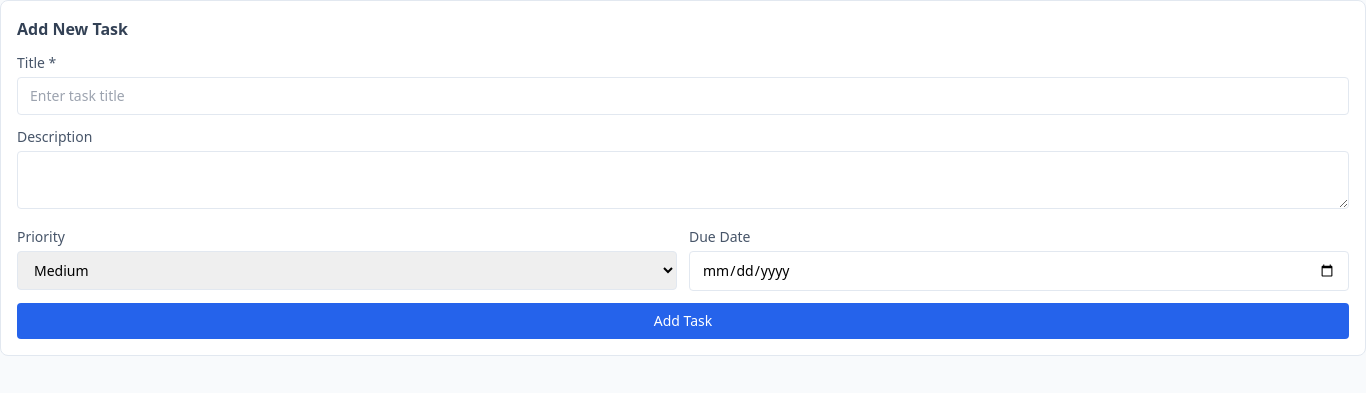
it: AddTaskForm › shows required error when submitted with empty title
Click the button "Add Task".
click(683, 321)  # box [17, 303, 1349, 339]
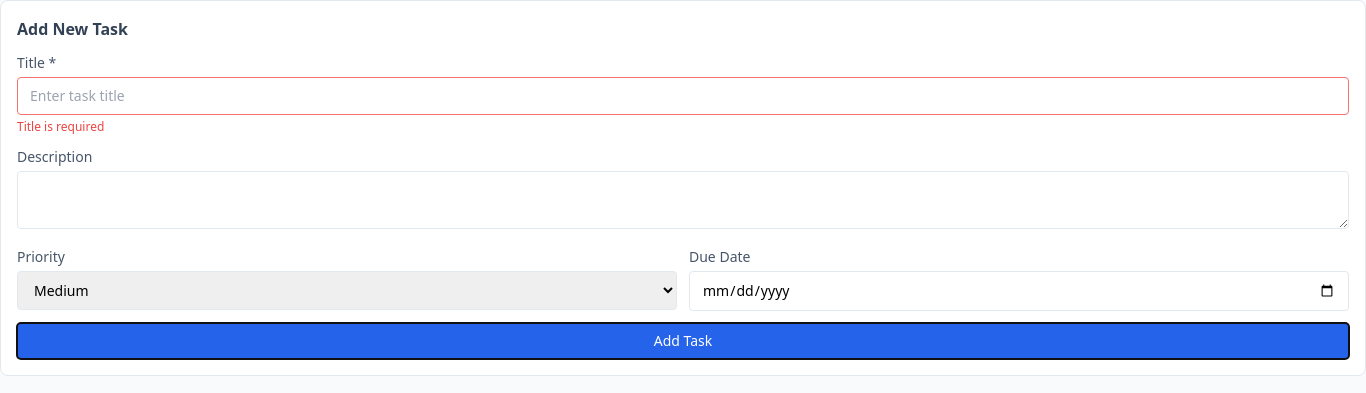
Expected: the text "Title is required" is shown, [17, 118, 104, 135]
